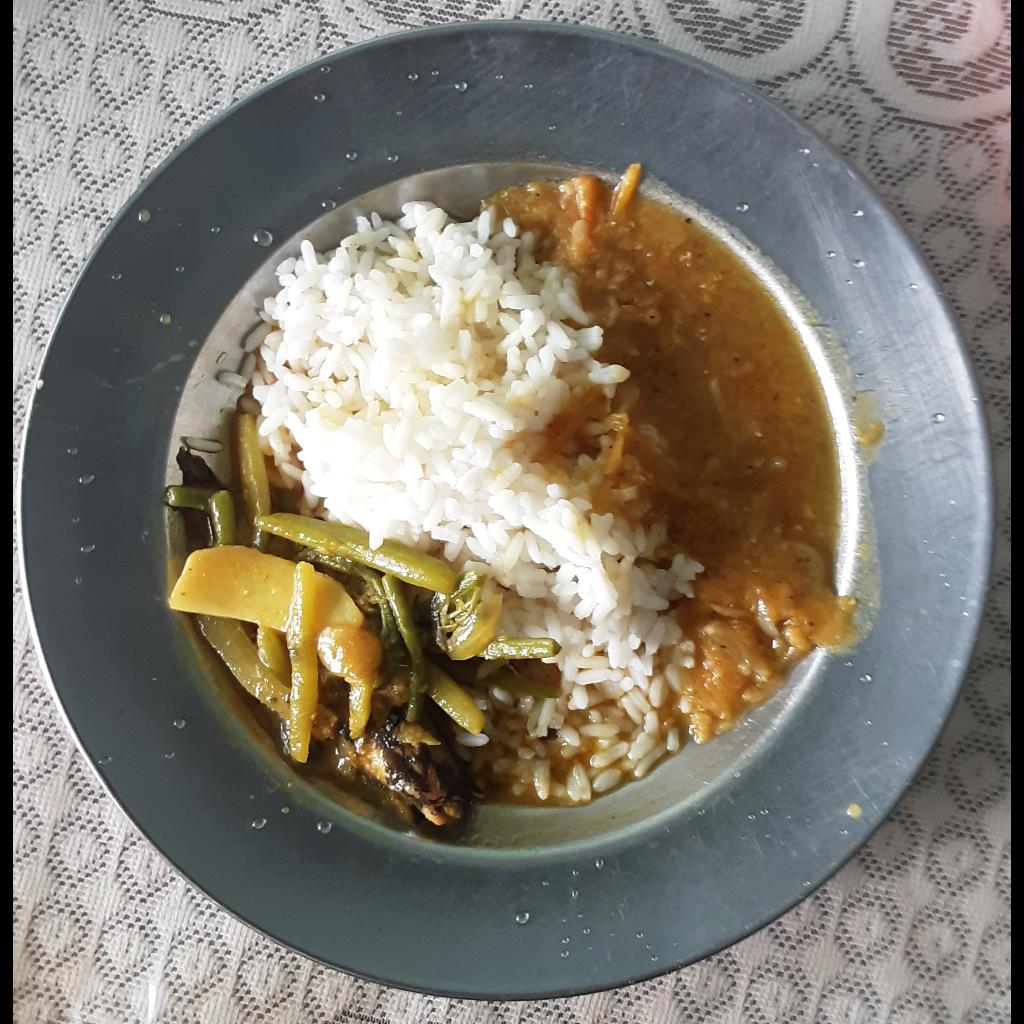daal: (482, 161, 864, 741)
fish: (342, 715, 468, 825)
khichuri: (163, 410, 557, 763)
rice: (217, 197, 703, 803)
